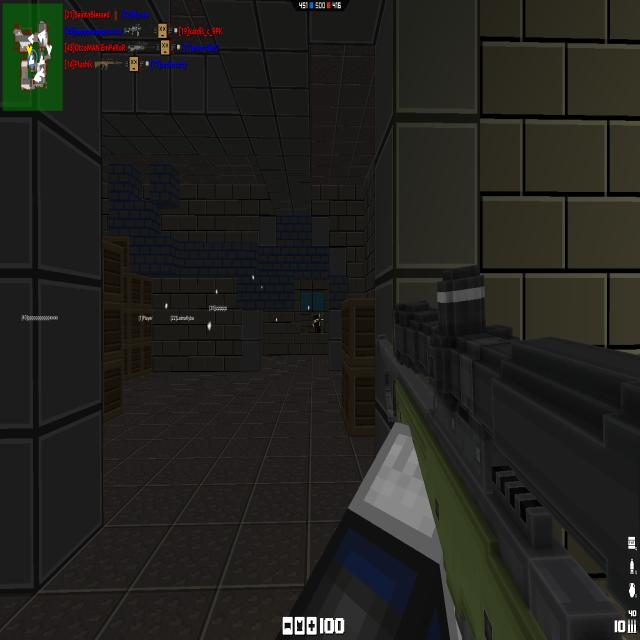player: (312, 313, 324, 334)
